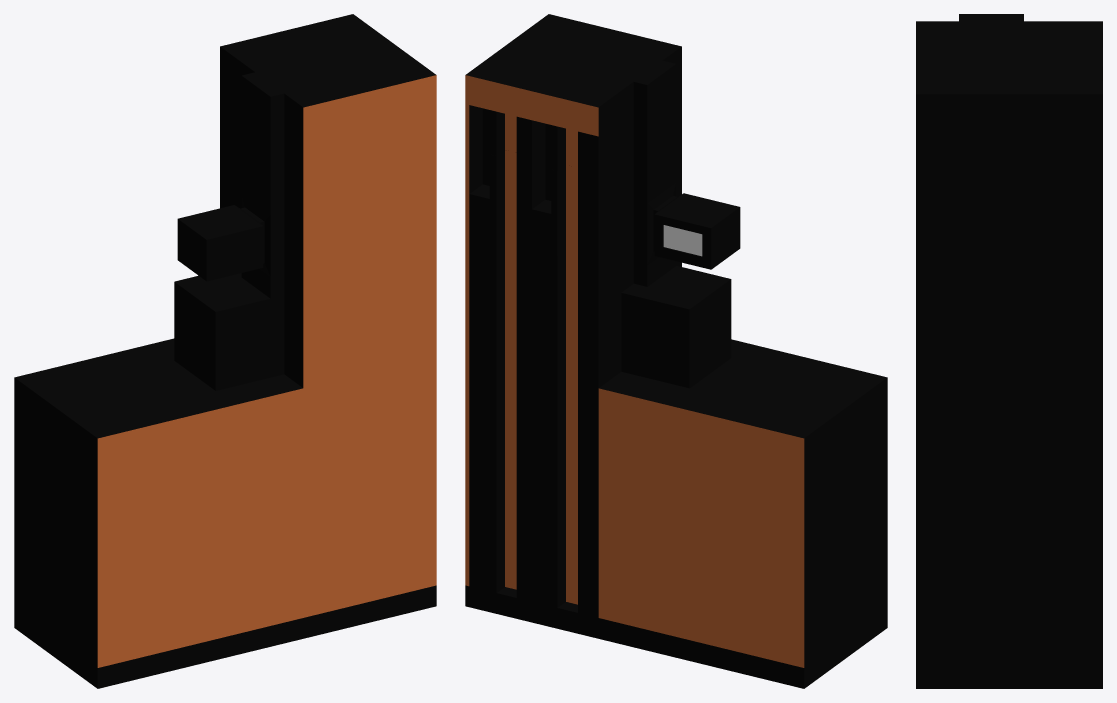
File: gasStation.fbx
3 views of the same model, side by side, from view 1: azimuth 30°, elevation 25°; view 2: azimuth 150°, elevation 25°; view 3: azimuth 270°, elevation 25° (orthographic). The views are drawn at different scales.
Parts seen in each view (by area): view 1: заправочные калонки.001; view 2: заправочные калонки.001; view 3: заправочные калонки.001.
Boxes of the visible parts, x1,y1,x2,y2 form: заправочные калонки.001: [14, 14, 436, 688]; заправочные калонки.001: [465, 14, 887, 688]; заправочные калонки.001: [916, 14, 1102, 688].
Size of the model in its own units: 2191 by 3283 by 935.
